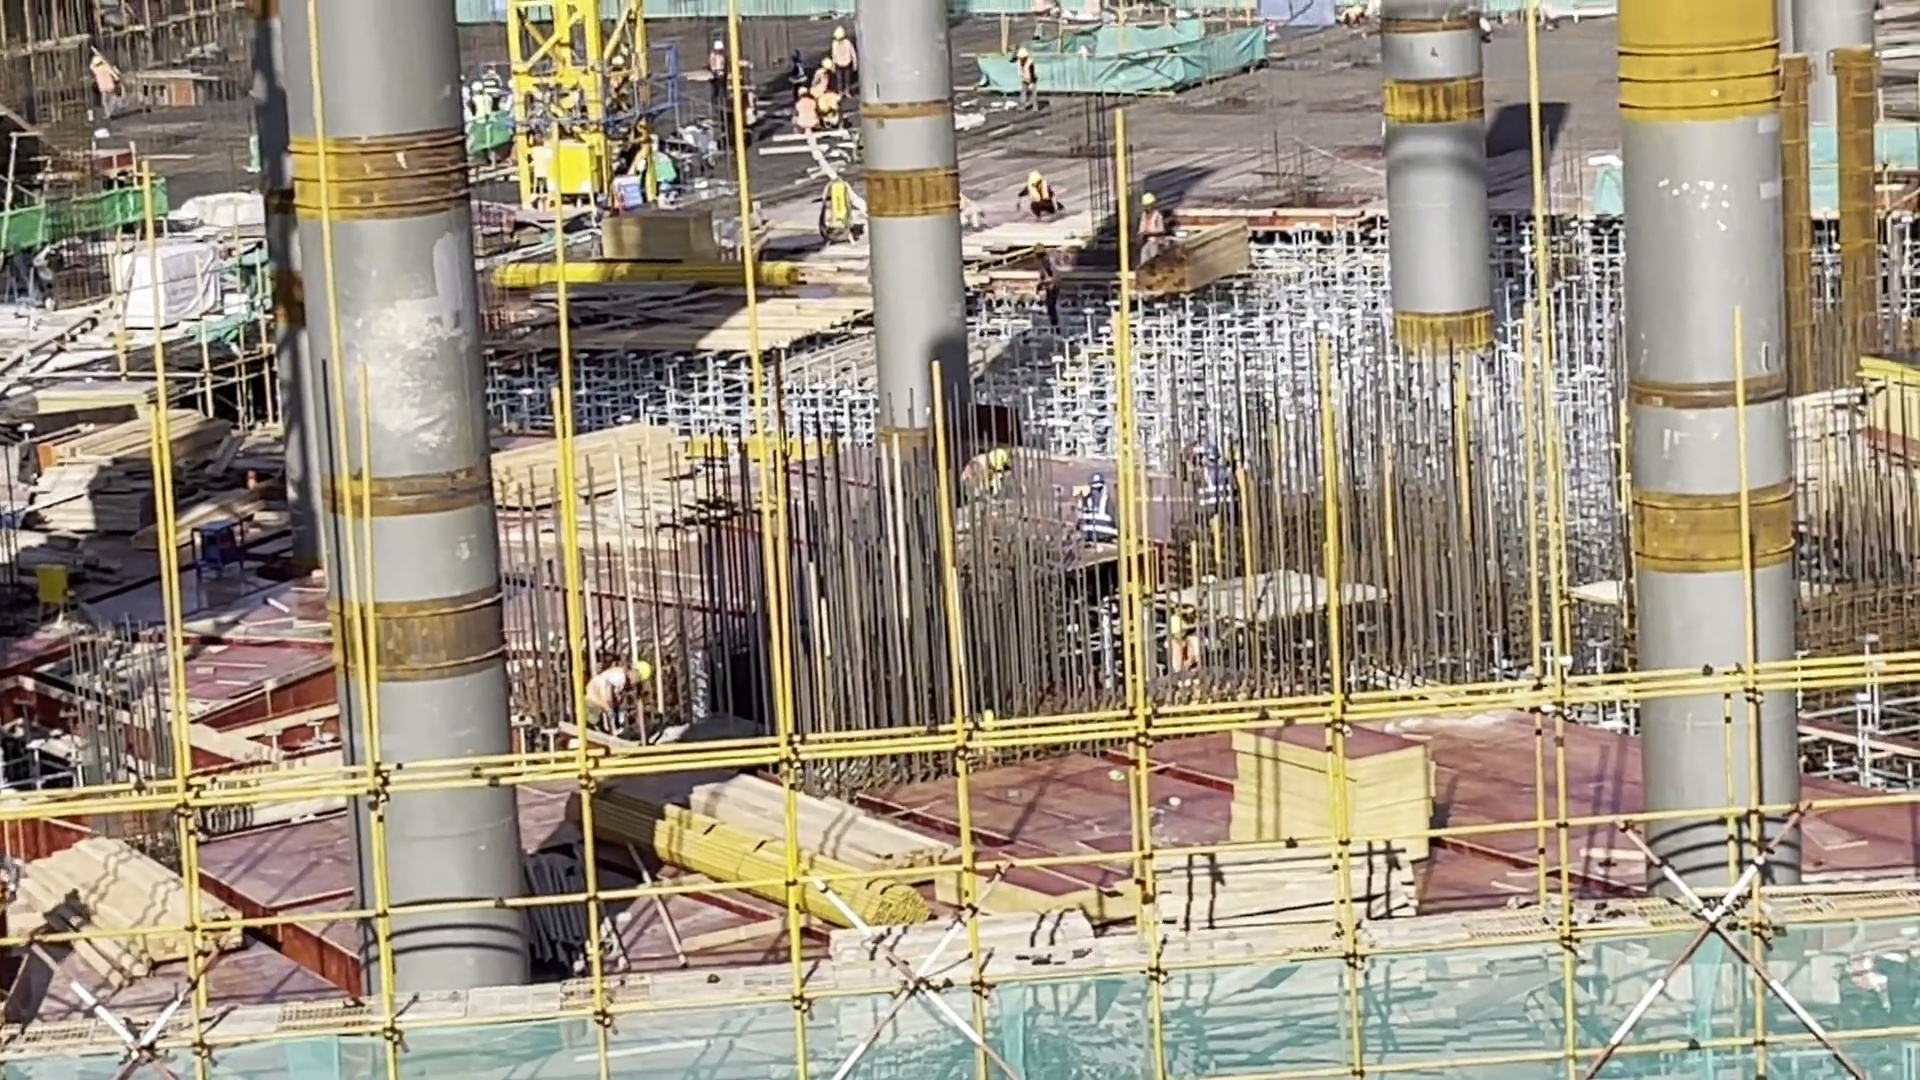ebox: (541, 137, 599, 202), (824, 174, 854, 245), (32, 570, 67, 616)
helmet: (633, 659, 668, 689), (981, 449, 1010, 474), (1139, 184, 1164, 208), (1085, 467, 1106, 491), (832, 23, 854, 44), (1029, 168, 1051, 185), (1014, 42, 1029, 63), (709, 36, 724, 51)
person: (565, 660, 646, 725), (1066, 465, 1121, 548), (957, 436, 1010, 515), (1132, 188, 1174, 269), (822, 19, 866, 81), (1020, 167, 1065, 222), (1010, 41, 1041, 110), (88, 55, 120, 119), (799, 84, 833, 139), (707, 28, 732, 102)
vest: (581, 666, 627, 710), (1088, 491, 1112, 536), (1140, 212, 1165, 238), (1030, 189, 1046, 202)
wood: (46, 855, 217, 948)
